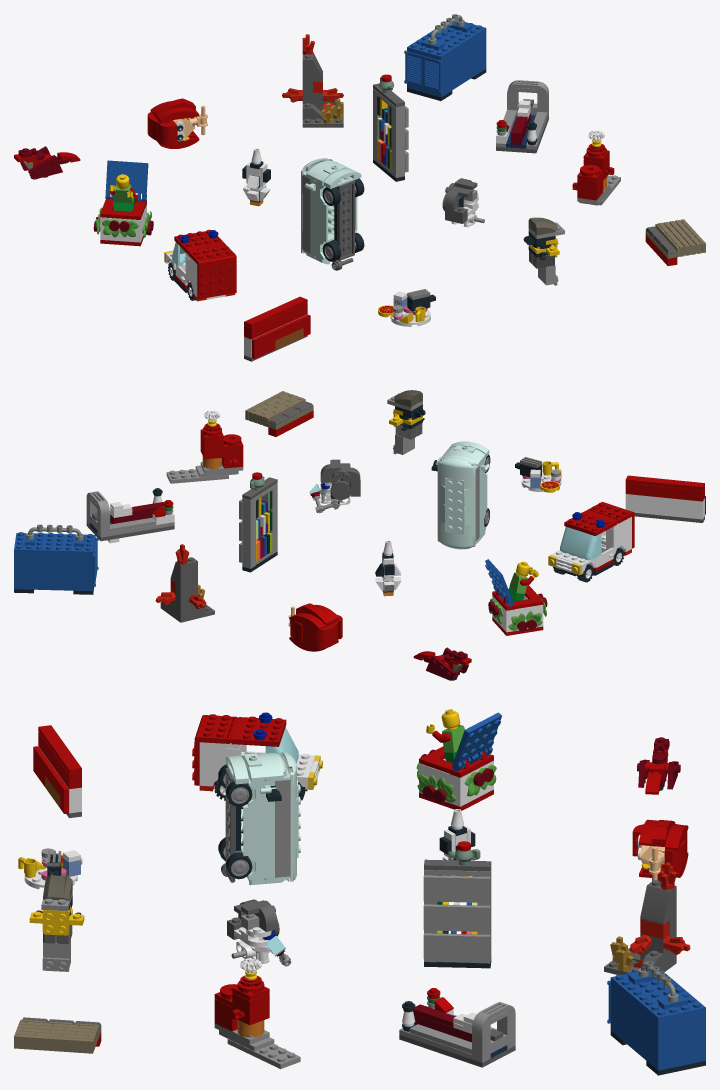
The picture shows the model from 3 angles, top to bottom: view 1: azimuth 30°, elevation 25°; view 2: azimuth 150°, elevation 25°; view 3: azimuth 270°, elevation 25°; orthographic projection. The views are drawn at different scales.
Parts seen in each view (by area): view 1: 4213 (×2), 3035, 3034, 3856 (×2), 44570, 4215a, 3008, 3001, 4162; view 2: 93604 (×2), 3795 (×2), 3035, 4215a, 3823, 3008, 4213, 2362a, 4162, 3678b, 44570; view 3: 26603 (×3), 3010 (×4), 3035 (×2), 3068b (×3), 3009 (×2), 44570, 4213, 3678b, 4215a, 3001, 3795, 93604 (+9 smaller).
Part boxes in pixels (x1,y1,x2,y2): 4213 (×2): [174, 229, 236, 299]; 3035: [407, 21, 486, 60]; 3034: [337, 180, 354, 260]; 3856 (×2): [405, 51, 441, 91]; 44570: [105, 160, 148, 201]; 4215a: [458, 35, 480, 82]; 3008: [244, 303, 307, 339]; 3001: [318, 202, 334, 242]; 4162: [244, 296, 307, 327]; 93604 (×2): [437, 458, 475, 549]; 3795 (×2): [166, 469, 464, 534]; 3035: [14, 532, 95, 555]; 4215a: [24, 553, 63, 586]; 3823: [560, 526, 601, 560]; 3008: [625, 483, 704, 501]; 4213: [564, 510, 617, 536]; 2362a: [63, 554, 83, 587]; 4162: [625, 475, 704, 490]; 3678b: [170, 557, 197, 586]; 44570: [485, 559, 513, 606]; 26603 (×3): [423, 875, 490, 960]; 3010 (×4): [419, 763, 705, 1065]; 3035 (×2): [399, 968, 705, 1067]; 3068b (×3): [423, 876, 490, 960]; 3009 (×2): [259, 792, 290, 866]; 44570: [452, 712, 501, 771]; 4213: [227, 716, 286, 746]; 3678b: [640, 880, 676, 924]; 4215a: [628, 997, 652, 1060]; 3001: [241, 804, 259, 855]; 3795: [227, 1039, 300, 1069]; 93604: [241, 753, 286, 780].
Size of the model in its own units: 1073 by 204 by 1038.
